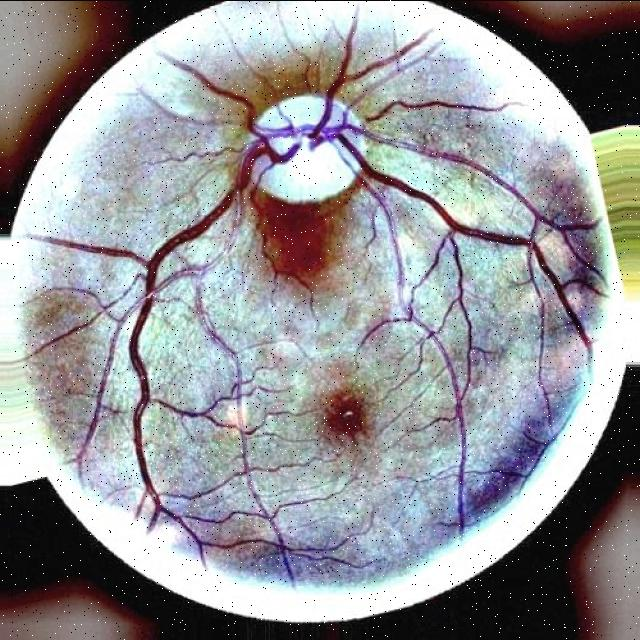Macula: (310, 389, 378, 453)
Nerves: (302, 123, 587, 337), (125, 136, 307, 434), (317, 9, 431, 127), (166, 52, 305, 147)
Optic Disk: (256, 100, 367, 198)
